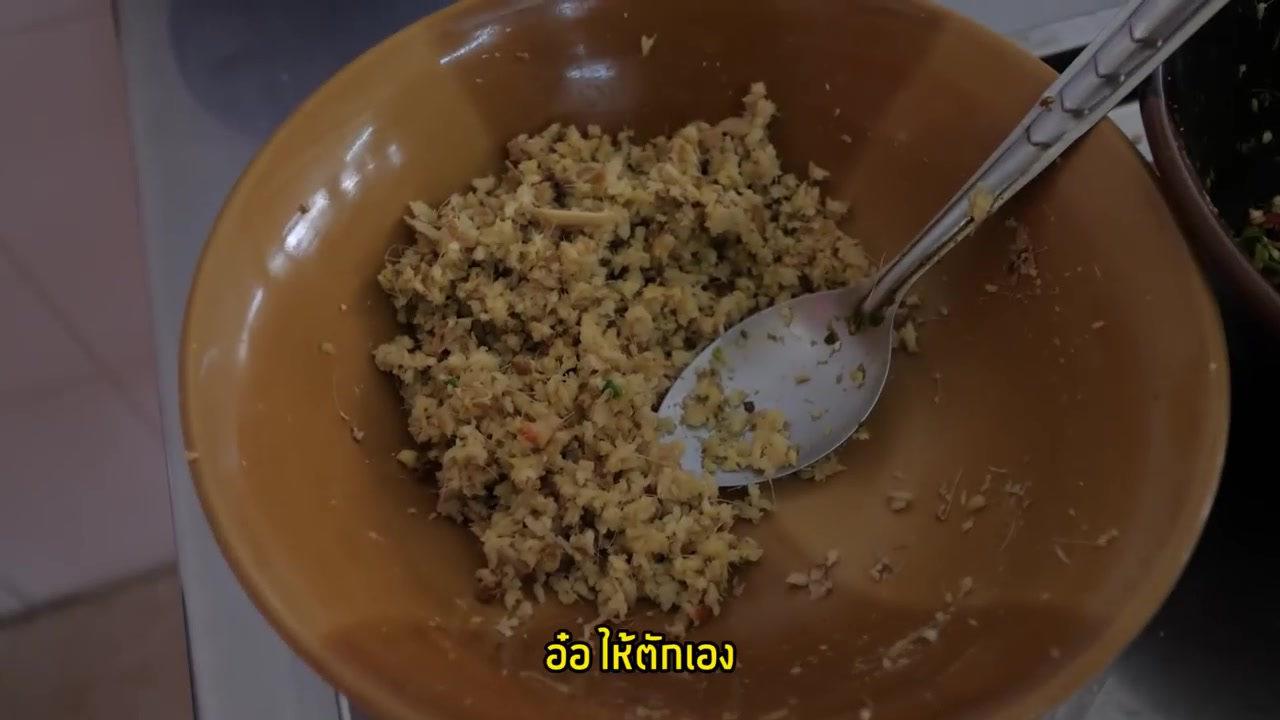text-label: (543, 623, 738, 677)
